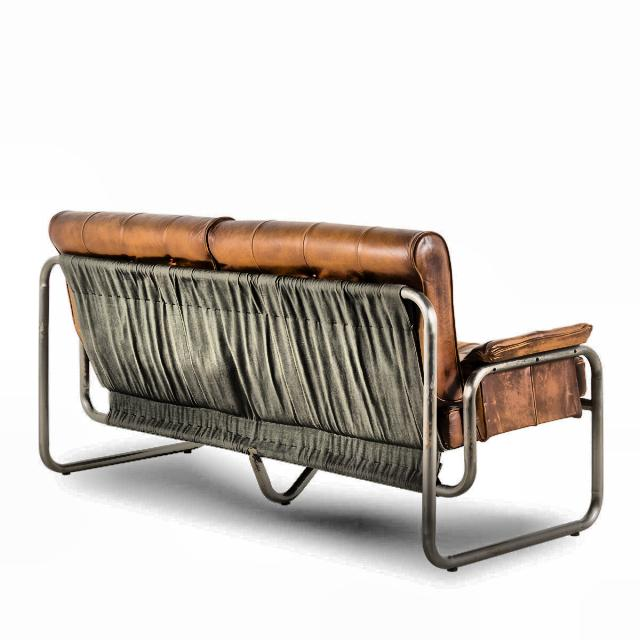sofa: (38, 208, 604, 572)
